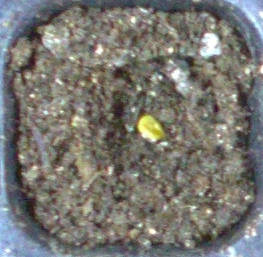pepper seed: (54, 43, 220, 184)
